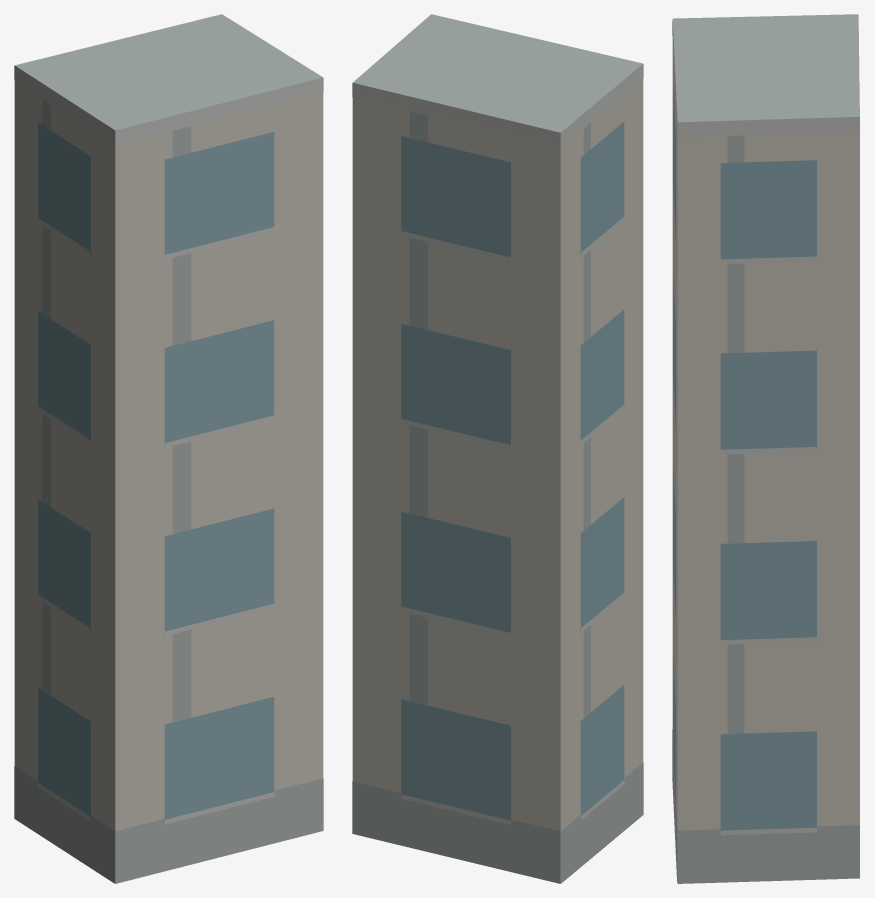
The model's file is survey-upis-32623377.glb.
The picture shows the model from 3 angles, left to right: view 1: azimuth 30°, elevation 25°; view 2: azimuth 150°, elevation 25°; view 3: azimuth 270°, elevation 25°; orthographic projection.
Parts seen in each view (by area): view 1: survey-upis-32623377.tmp; view 2: survey-upis-32623377.tmp; view 3: survey-upis-32623377.tmp.
Part boxes in pixels (x1=…): survey-upis-32623377.tmp: x1=14, y1=14, x2=323, y2=883; survey-upis-32623377.tmp: x1=352, y1=14, x2=643, y2=883; survey-upis-32623377.tmp: x1=672, y1=14, x2=859, y2=883.
Size of the model in its own units: 3.73 by 12.2 by 2.73.
